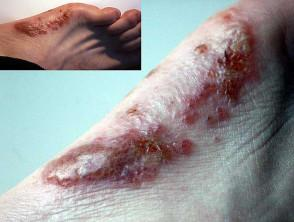Eczema: (213, 32, 248, 80), (48, 151, 111, 176), (17, 14, 67, 37), (133, 141, 159, 178), (192, 92, 216, 132)
